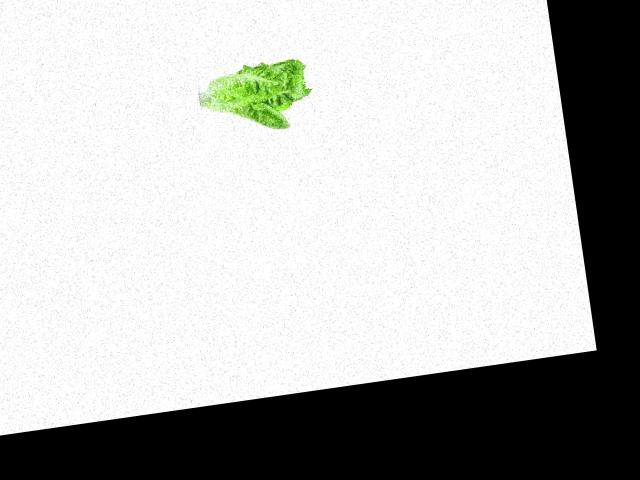lettuce: (199, 51, 317, 140)
